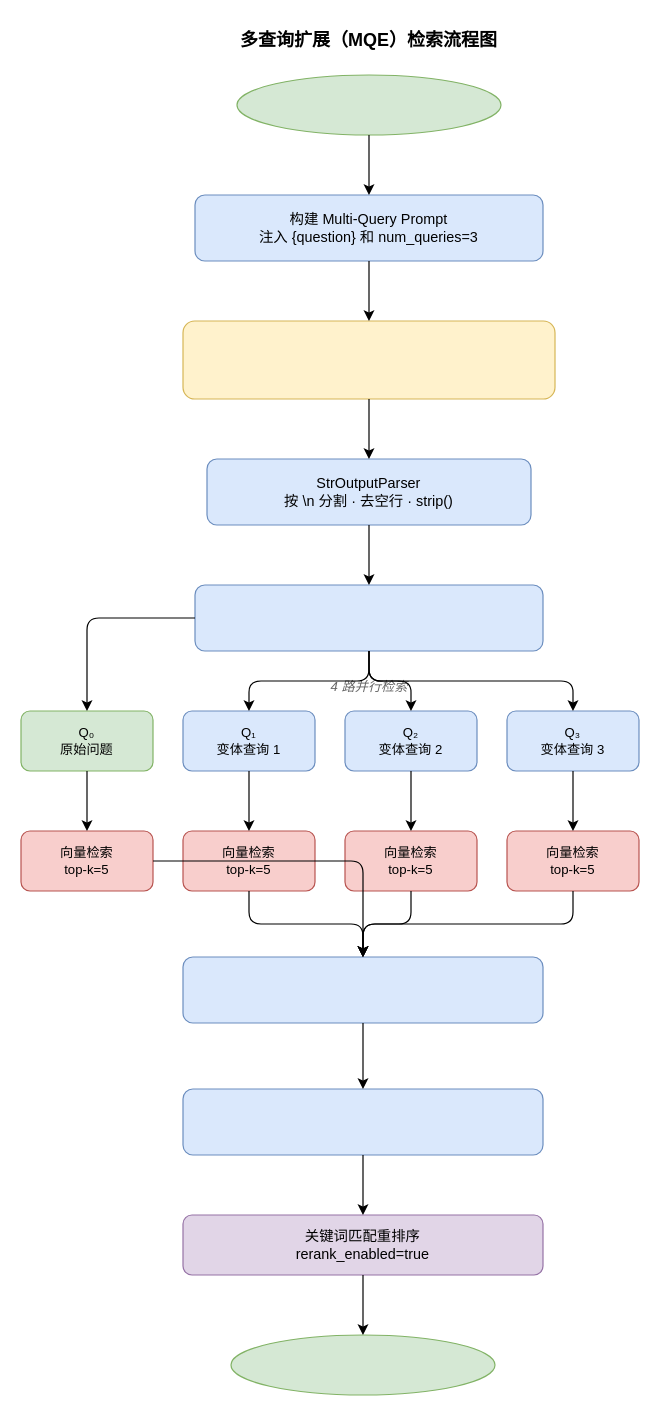
This 660x1416 diagram has some shape labels left out. Here are the shapes that lost their labels. From the top down, the box of each, then its label:
(236, 74, 501, 135): 用户原始问题 q
(182, 320, 555, 399): Qwen-Flash LLM temperature=0.7 · max_tokens=2048 推理生成多角度查询表述
(194, 584, 543, 651): 插入原始问题至列表首位 截取前 num_queries+1 = 4 个查询
(182, 956, 543, 1023): 合并所有检索结果 最多 4×5 = 20 篇候选文档
(182, 1088, 543, 1155): 基于 hash(page_content) 去重 score_threshold ≥ 0.6 过滤
(230, 1334, 495, 1395): 最终候选文档集
